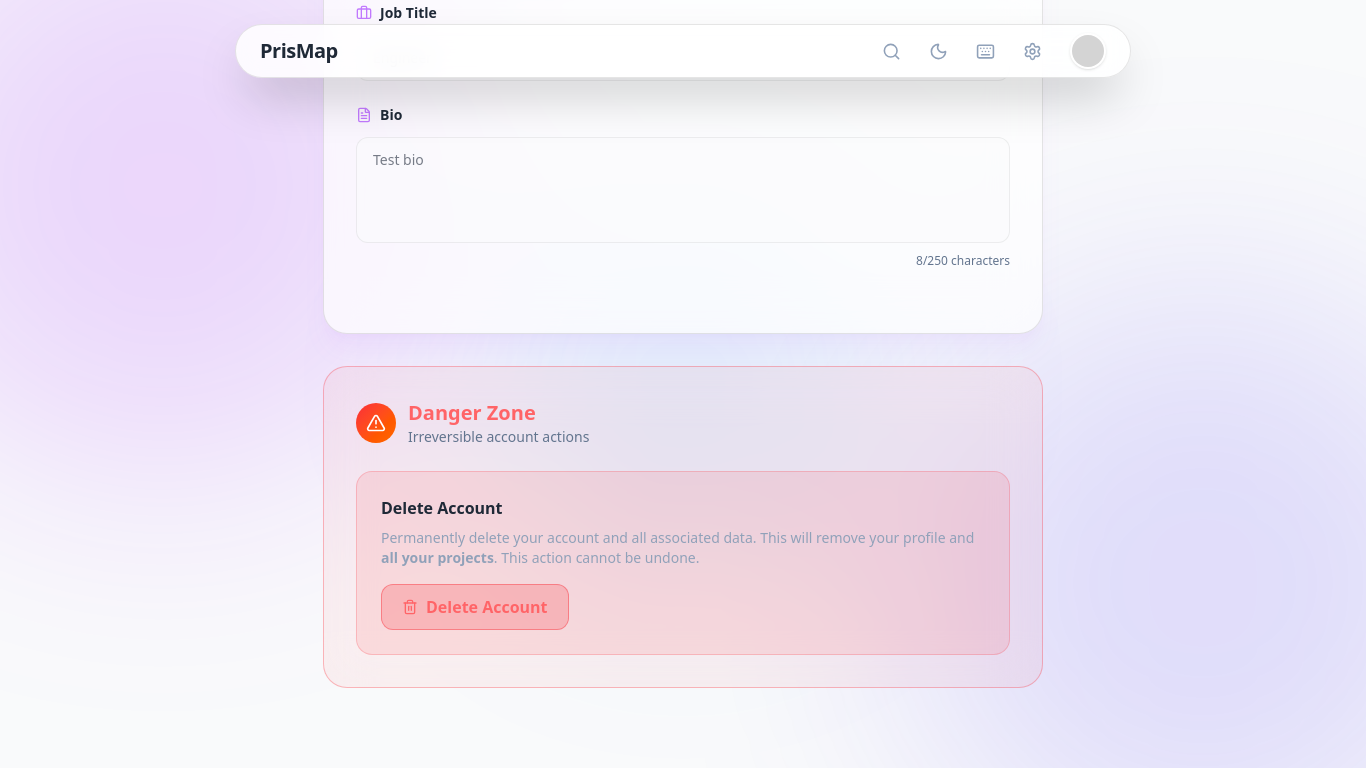
Settings Page Integration Tests › Delete Forever button is disabled until DELETE is typed
This screenshot has width=1366, height=768.
(page scrolled)
# Open modal
Click the button "Delete Account".
click(475, 607)  # box [381,584,569,630]
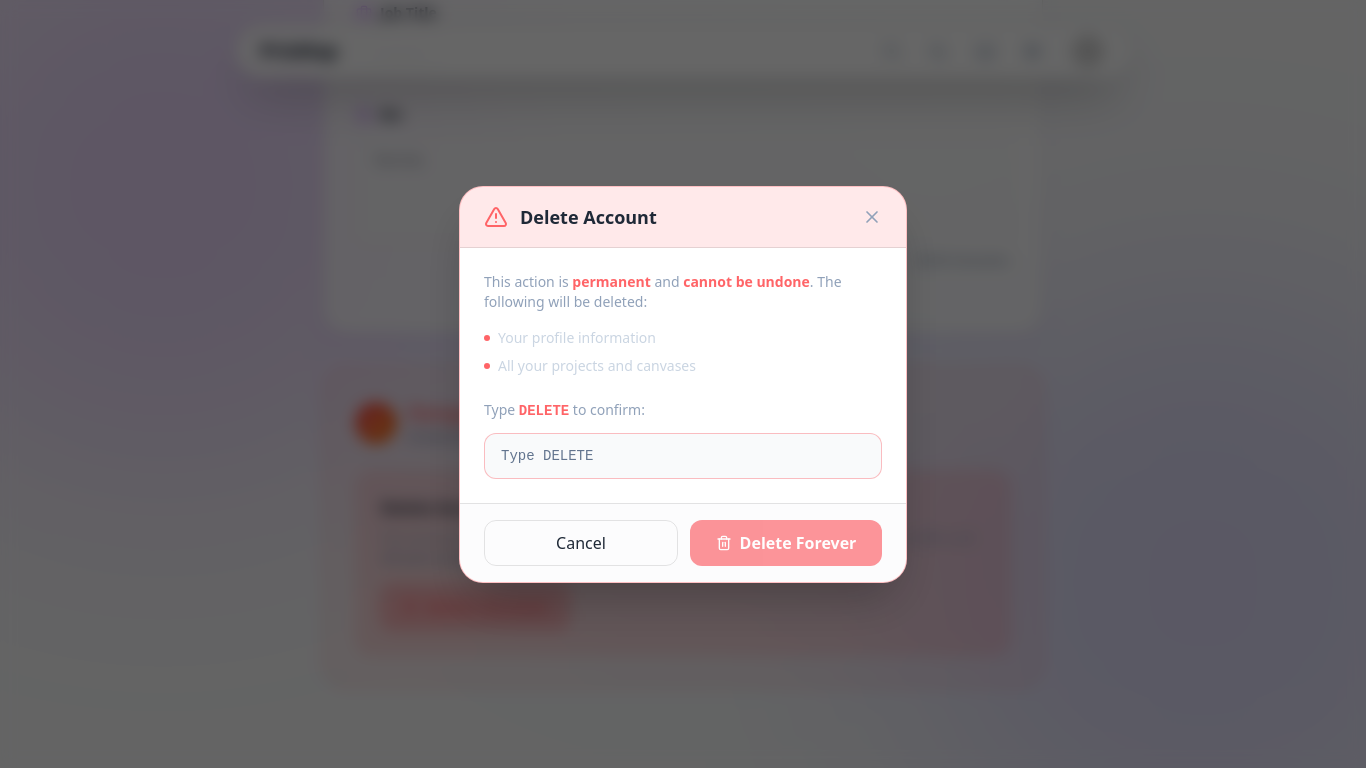
Expected: the button "Delete Forever" is disabled, [690,520,882,566]
# Type DELETE
Type "DELETE" into the field with placeholder "Type DELETE".
click(683, 456); type("DELETE")  # box [484,432,882,478]
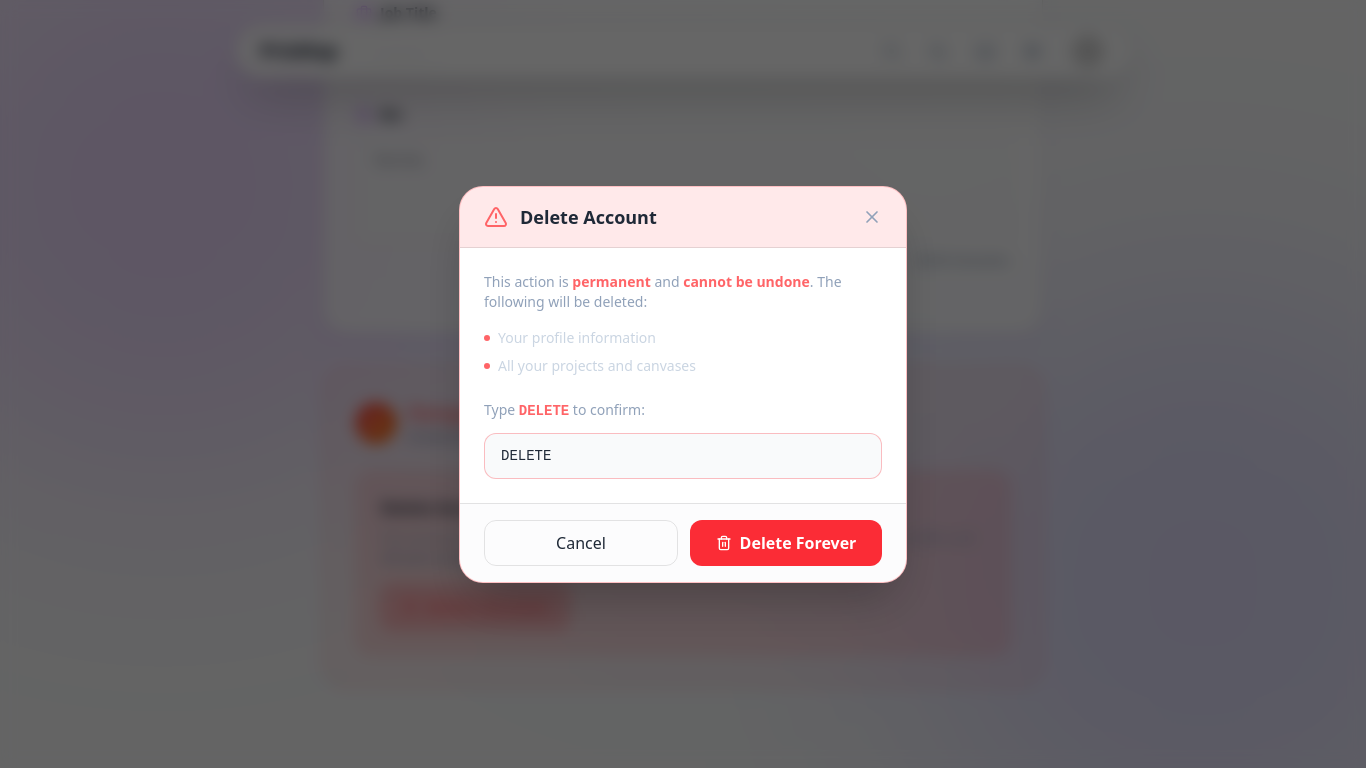
Expected: the button "Delete Forever" is enabled, [690,520,882,566]
